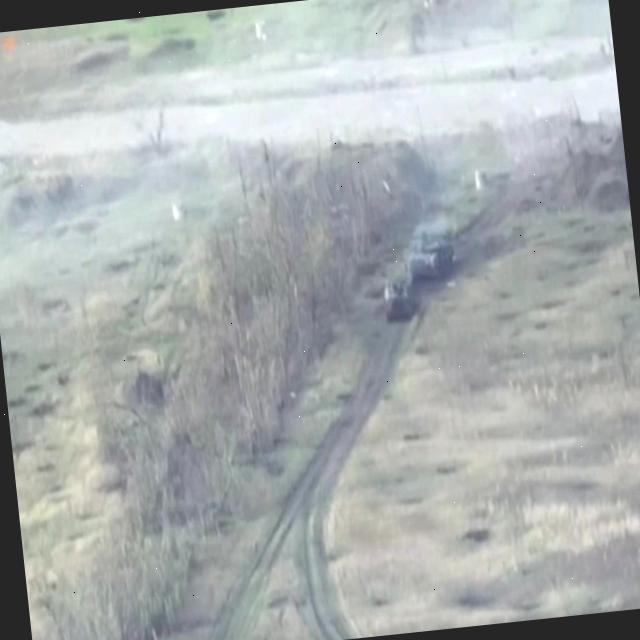AIFV: (380, 273, 416, 331), (577, 559, 593, 567)
MBT: (404, 224, 473, 285)
